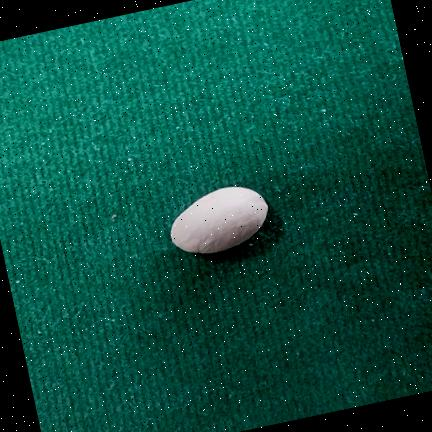immature: (171, 187, 268, 253)
